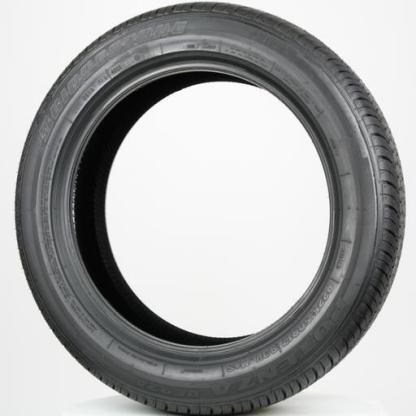Tire: (11, 0, 407, 415)
